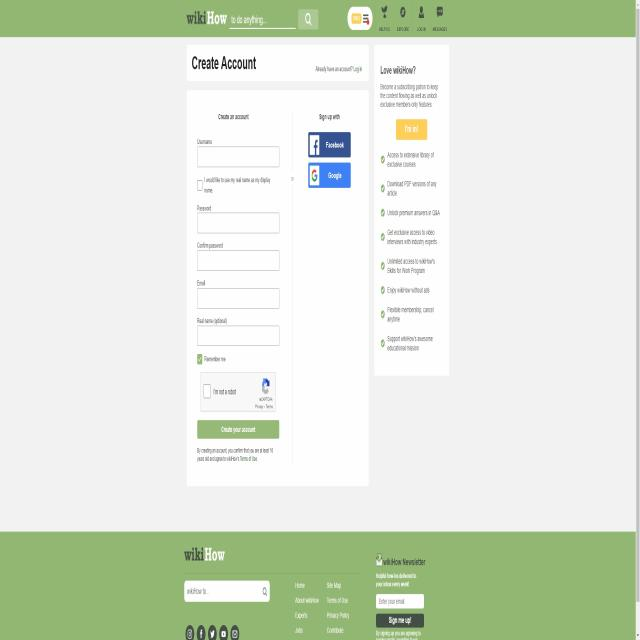menu-bar: (376, 2, 450, 35)
search: (182, 578, 270, 603), (228, 9, 320, 30)
side-panel: (374, 44, 448, 373)
